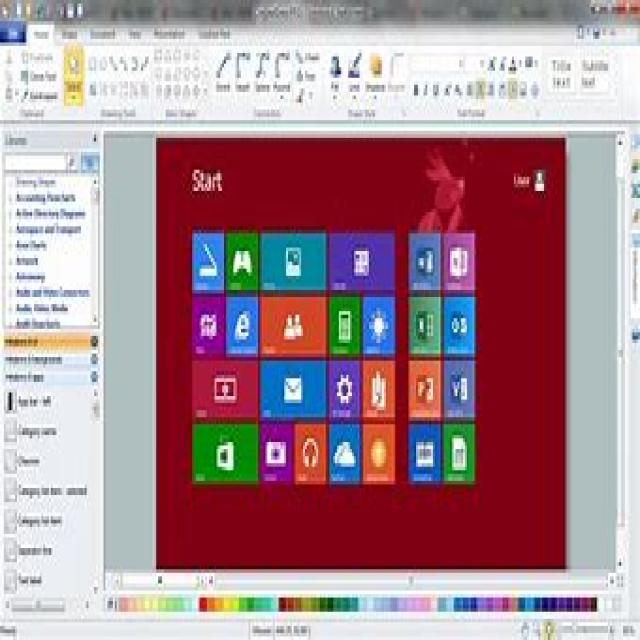button: (327, 226, 397, 296), (259, 357, 328, 422), (259, 228, 327, 292), (260, 294, 328, 357), (191, 359, 258, 422), (192, 422, 259, 484), (361, 292, 398, 358), (190, 224, 225, 293), (407, 293, 442, 359), (362, 421, 398, 485), (442, 422, 476, 488), (407, 228, 442, 292), (407, 358, 442, 422), (191, 297, 226, 360), (259, 421, 294, 484), (362, 358, 396, 422), (442, 358, 477, 420), (227, 227, 260, 292), (226, 290, 258, 357), (407, 422, 441, 485), (442, 294, 476, 357), (295, 421, 328, 485), (328, 421, 361, 485), (328, 294, 361, 358), (444, 229, 476, 293), (328, 359, 361, 421), (615, 0, 640, 18), (81, 152, 101, 173), (66, 149, 79, 173), (590, 1, 604, 19), (604, 1, 615, 19)
dropdownMenu: (1, 370, 101, 590), (1, 329, 100, 354), (1, 127, 99, 147), (1, 356, 101, 369)
input: (3, 150, 67, 172)
label: (189, 161, 223, 193)
menu: (0, 19, 640, 125)
menuItem: (3, 476, 88, 504), (1, 504, 64, 535), (1, 388, 54, 416), (2, 536, 54, 564), (2, 418, 60, 443), (7, 219, 83, 236), (3, 446, 42, 476), (7, 286, 90, 300), (7, 189, 77, 205), (8, 206, 87, 220), (3, 565, 45, 589), (7, 302, 70, 316), (7, 234, 50, 254), (8, 175, 58, 189), (6, 316, 62, 328), (7, 269, 49, 284), (6, 254, 42, 269)
slider: (207, 571, 616, 590), (614, 132, 626, 573), (106, 571, 206, 593), (0, 594, 90, 616), (92, 382, 100, 596), (90, 172, 100, 328), (558, 619, 614, 640)
